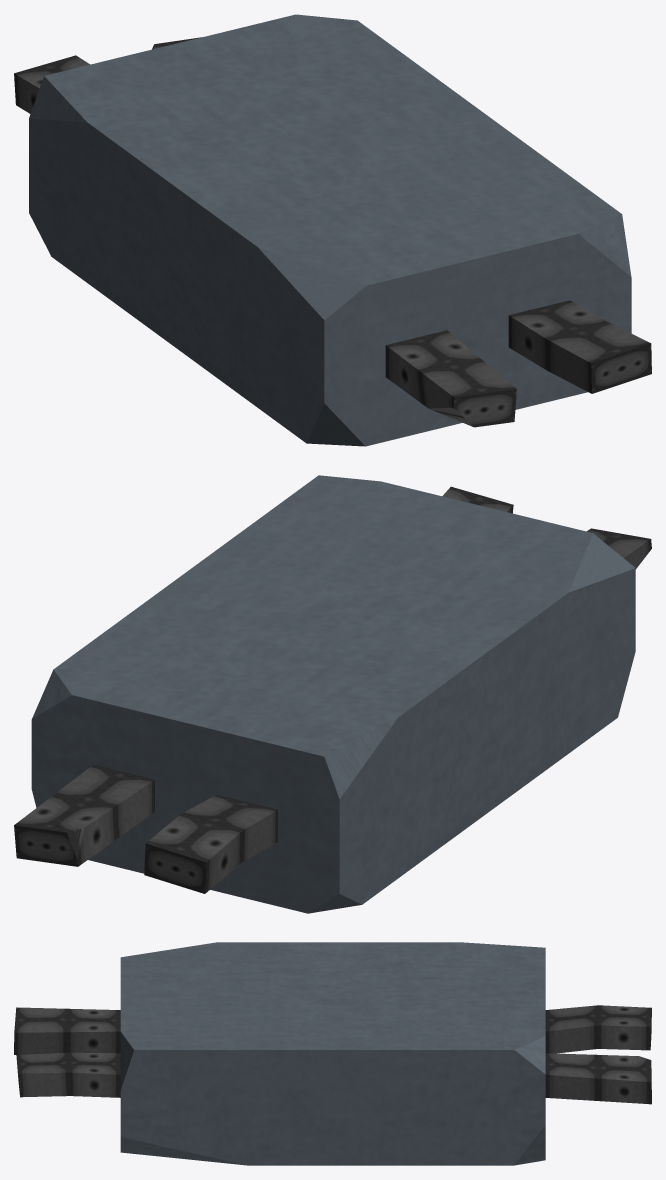
File: PanelPart02.fbx
3 views of the same model, one above another, from view 1: azimuth 30°, elevation 25°; view 2: azimuth 150°, elevation 25°; view 3: azimuth 270°, elevation 25° (orthographic). The views are drawn at different scales.
Parts seen in each view (by area): view 1: PanelPart02; view 2: PanelPart02; view 3: PanelPart02.
Part boxes in pixels (bbox=[...]): PanelPart02: bbox=[14, 14, 651, 446]; PanelPart02: bbox=[14, 475, 651, 913]; PanelPart02: bbox=[14, 942, 651, 1165].
Bounding box in the file's own units: 30 × 15 × 75.07.
